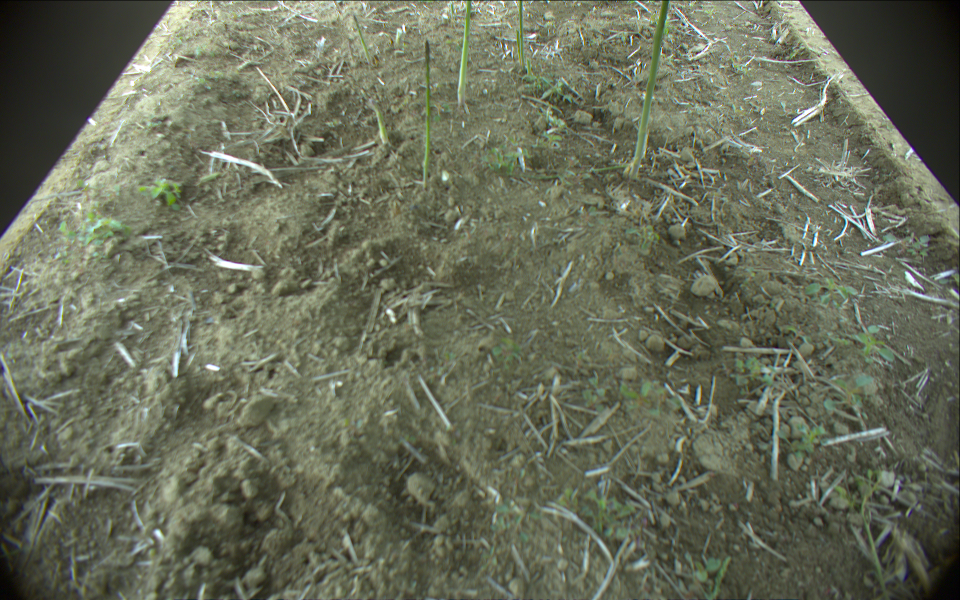aspa: (628, 1, 673, 176), (419, 40, 433, 184), (455, 1, 474, 106), (513, 1, 529, 72), (368, 99, 391, 144), (352, 16, 373, 63)
